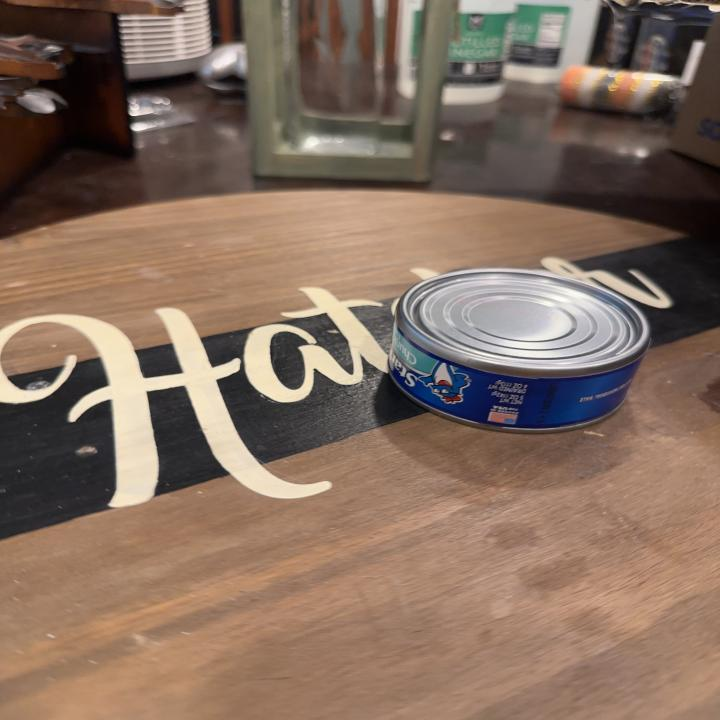Canned-Tuna: (386, 264, 654, 435)
